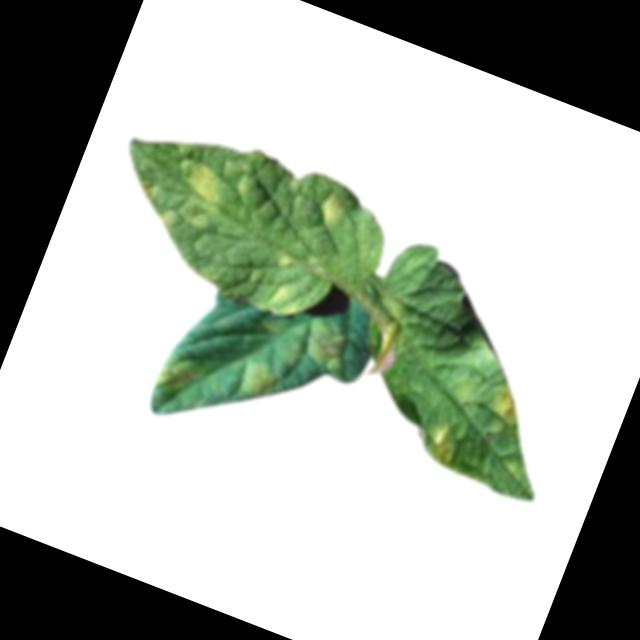Leaf_Mold: (299, 314, 362, 377), (152, 348, 212, 403), (178, 156, 238, 208), (235, 356, 285, 405), (420, 419, 467, 470), (484, 384, 527, 428), (312, 186, 352, 232), (265, 280, 306, 319), (273, 248, 301, 274)
